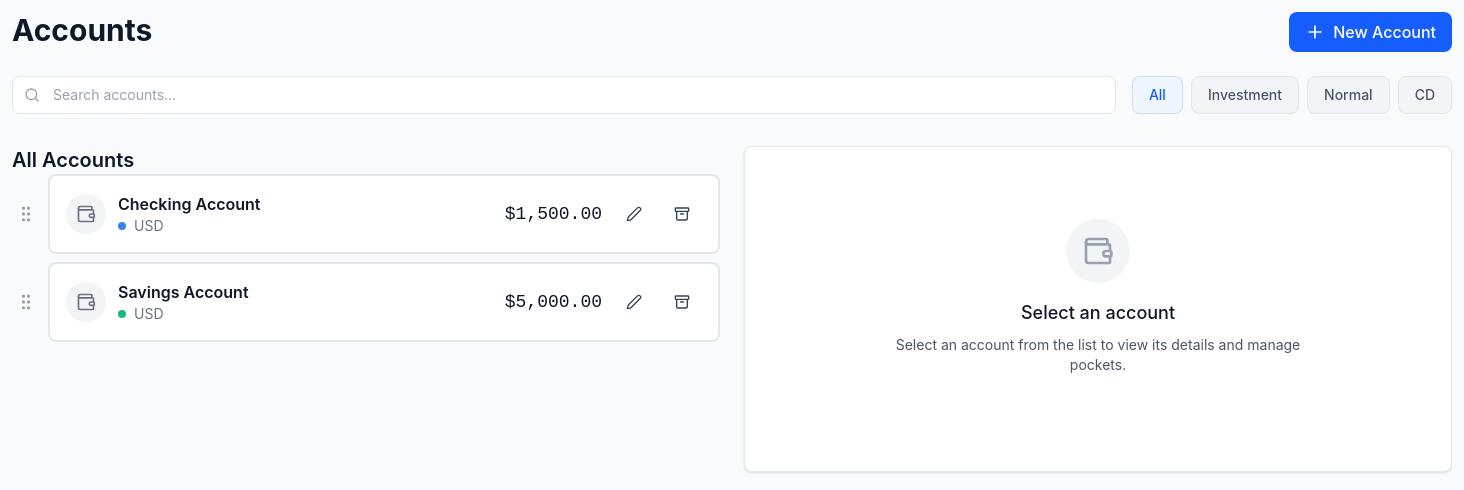
Scenario: AccountsPage › filters accounts by name when typing in the search input
Expected: the heading "Savings Account" is shown, [118, 280, 248, 304]
Type "Checking" into the field with placeholder "Search accounts...".
click(564, 95); type("Checking")  # box [12, 76, 1116, 114]
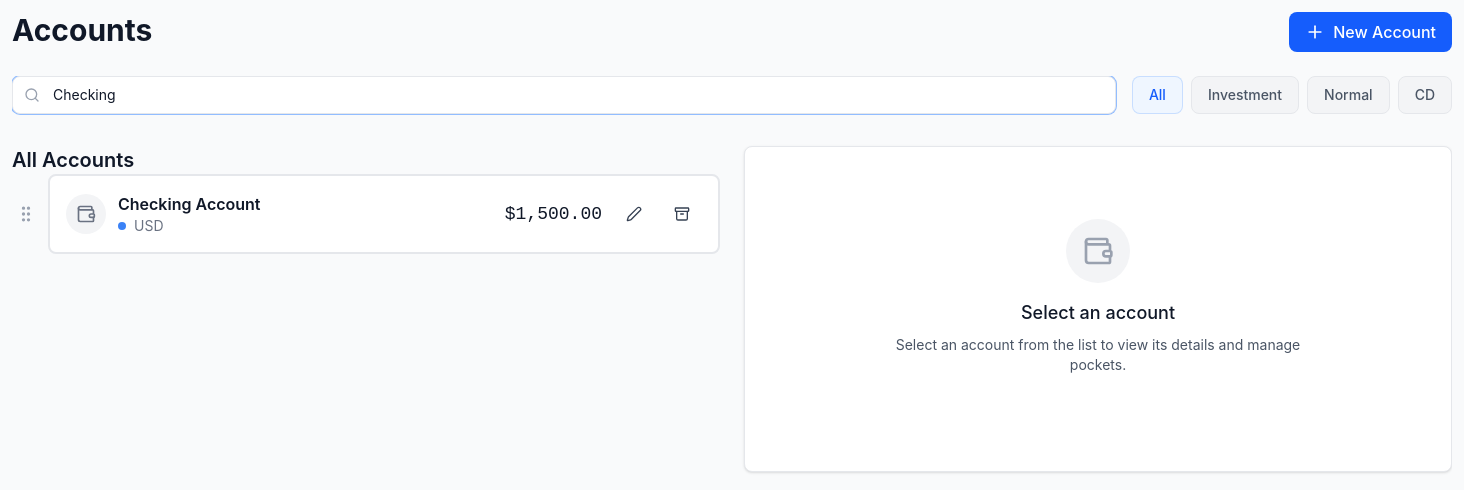
Expected: the heading "Checking Account" is shown, [118, 192, 260, 216]
Expected: the heading "Savings Account" is gone
